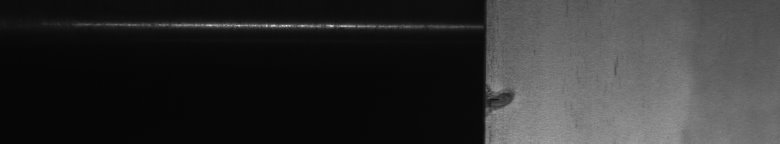hb: (496, 80, 521, 116)
